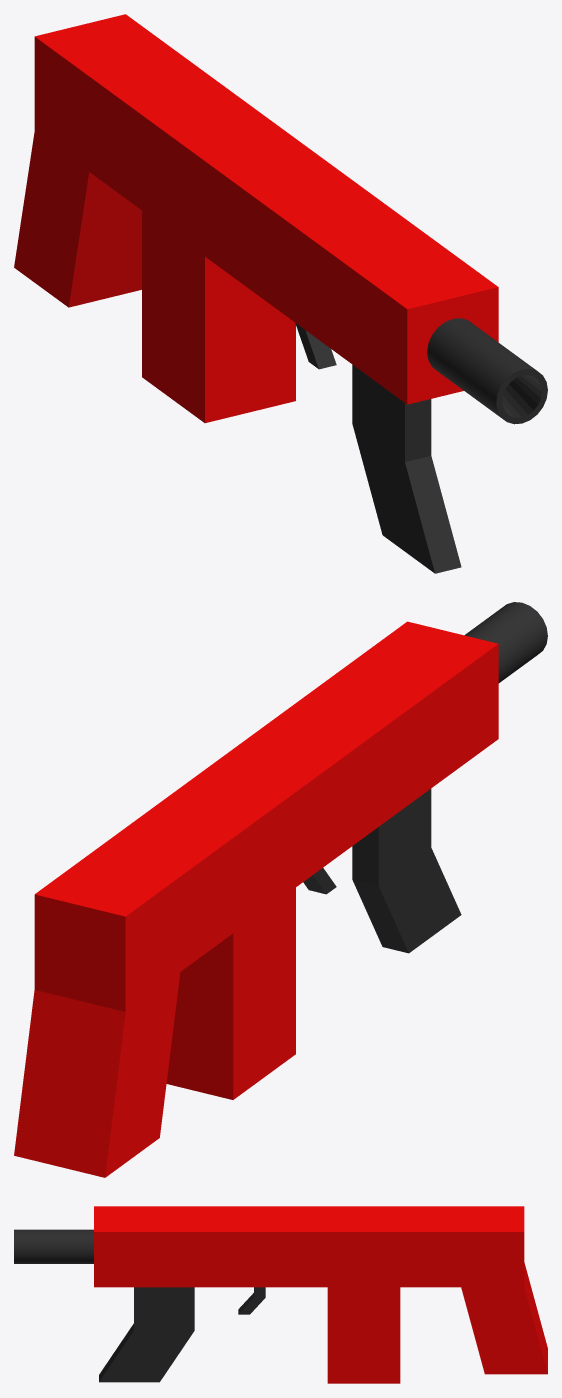
Rendered from gun.fbx.
3 views of the same model, one above another, from view 1: azimuth 30°, elevation 25°; view 2: azimuth 150°, elevation 25°; view 3: azimuth 270°, elevation 25° (orthographic). The views are drawn at different scales.
Visible parts, largest first — view 1: gun; view 2: gun; view 3: gun.
Boxes of the visible parts, bbox=[...] form: gun: bbox=[14, 14, 547, 573]; gun: bbox=[14, 602, 547, 1177]; gun: bbox=[14, 1206, 547, 1383].
Size of the model in its own units: 0.4 by 1.16 by 3.52.
